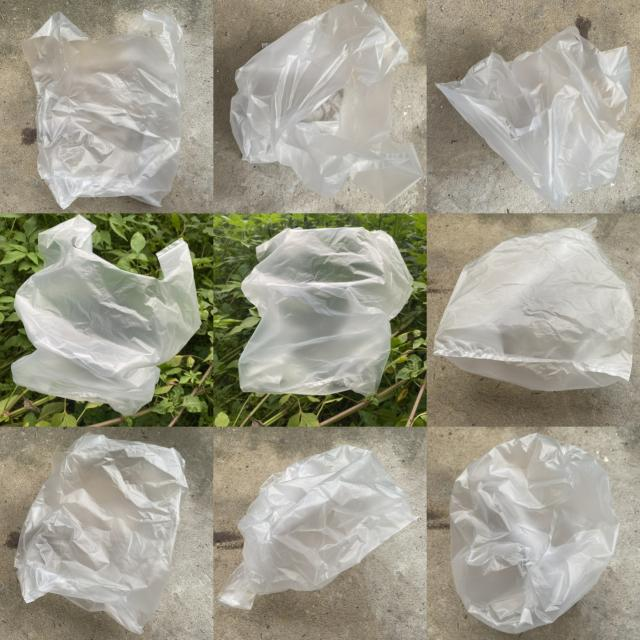Single-layer Plastic: (230, 0, 422, 204), (11, 215, 200, 415), (436, 26, 631, 208), (434, 218, 634, 391), (15, 434, 188, 634), (450, 434, 619, 634), (218, 445, 418, 610), (22, 10, 185, 209), (239, 228, 412, 395)
